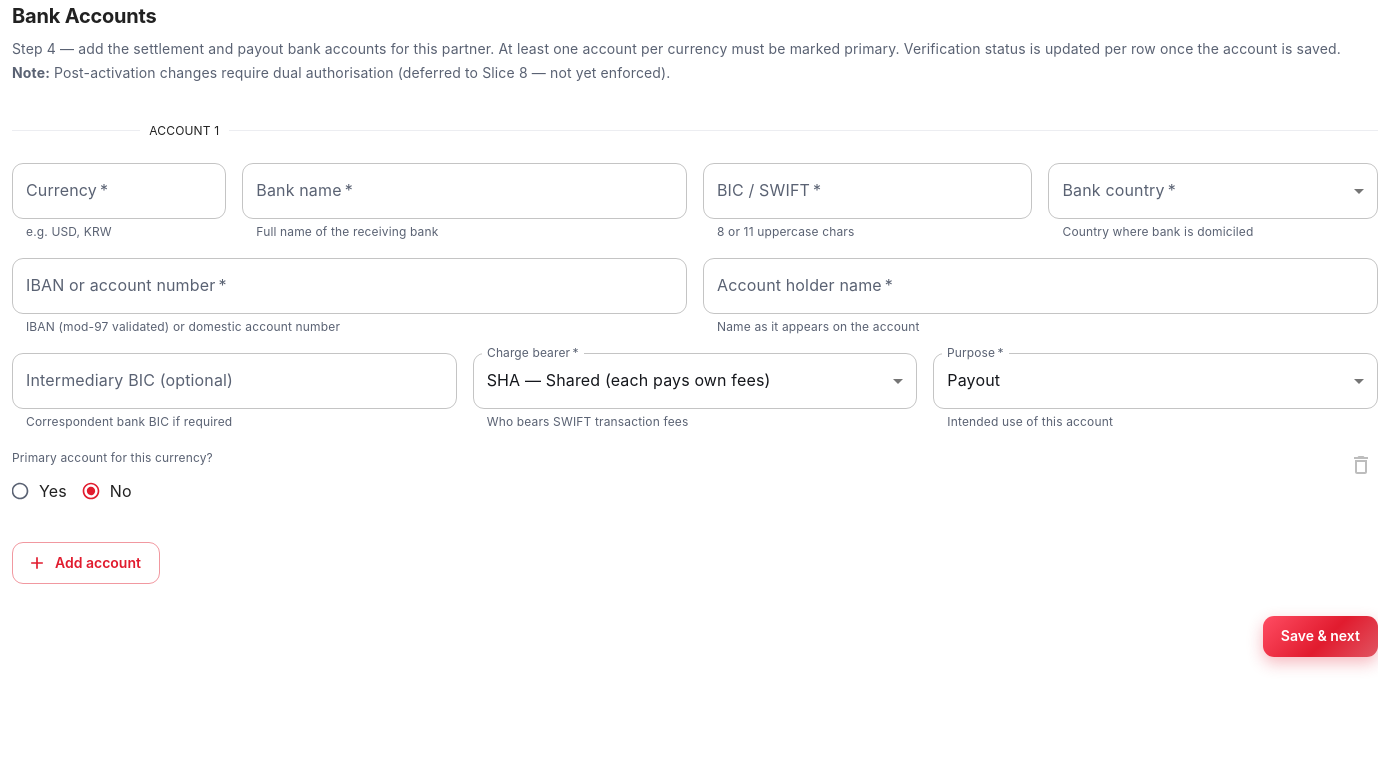
Test: BankAccountsSection › flags BIC validation error on submit with short BIC
Note: Fill minimum required fields but give an invalid (7-char) BIC.
In the field named "bankAccounts[0].currency": (119, 191) [12,163,226,219], type "USD"
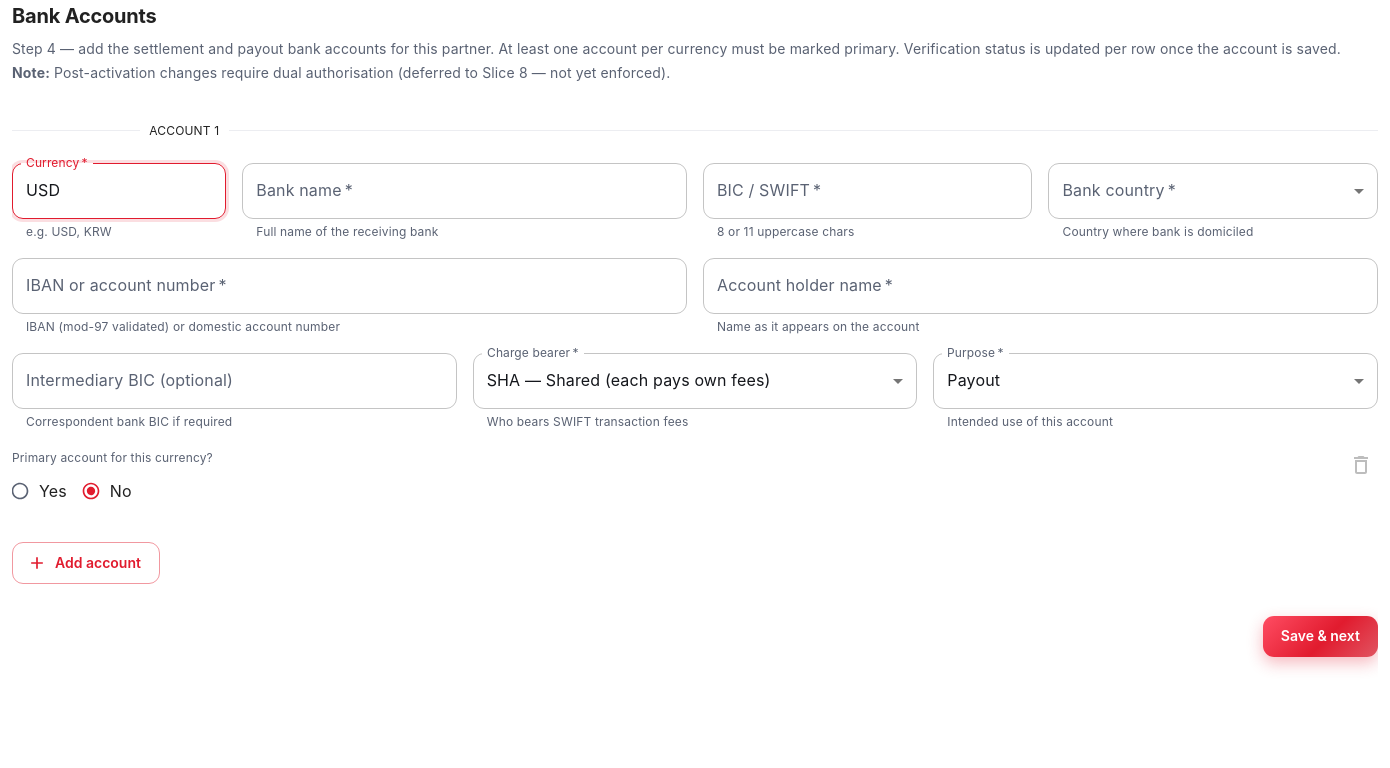
In the field named "bankAccounts[0].bicSwift": (868, 191) [703,163,1032,219], type "FNBKUSD"
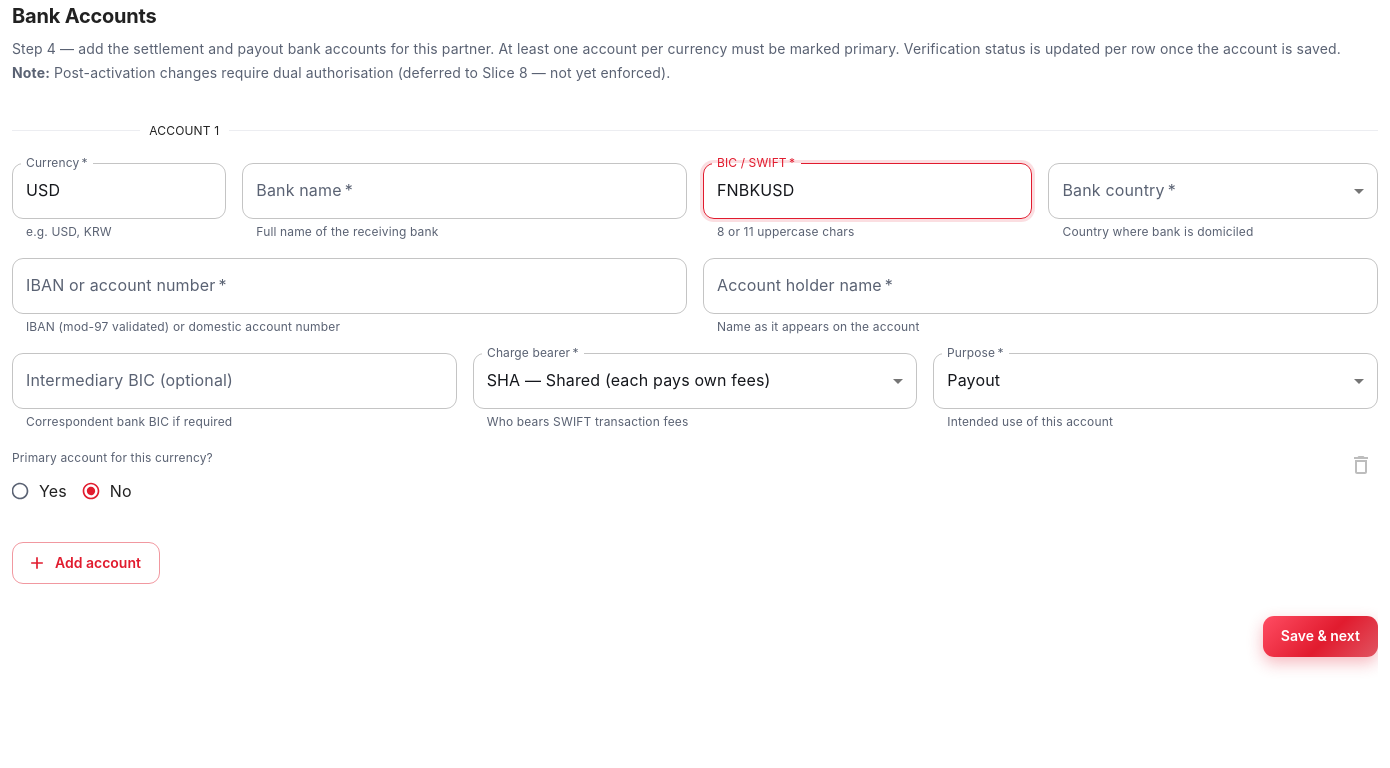
Click the button "Save & next": (1320, 636) [1263,616,1378,657]
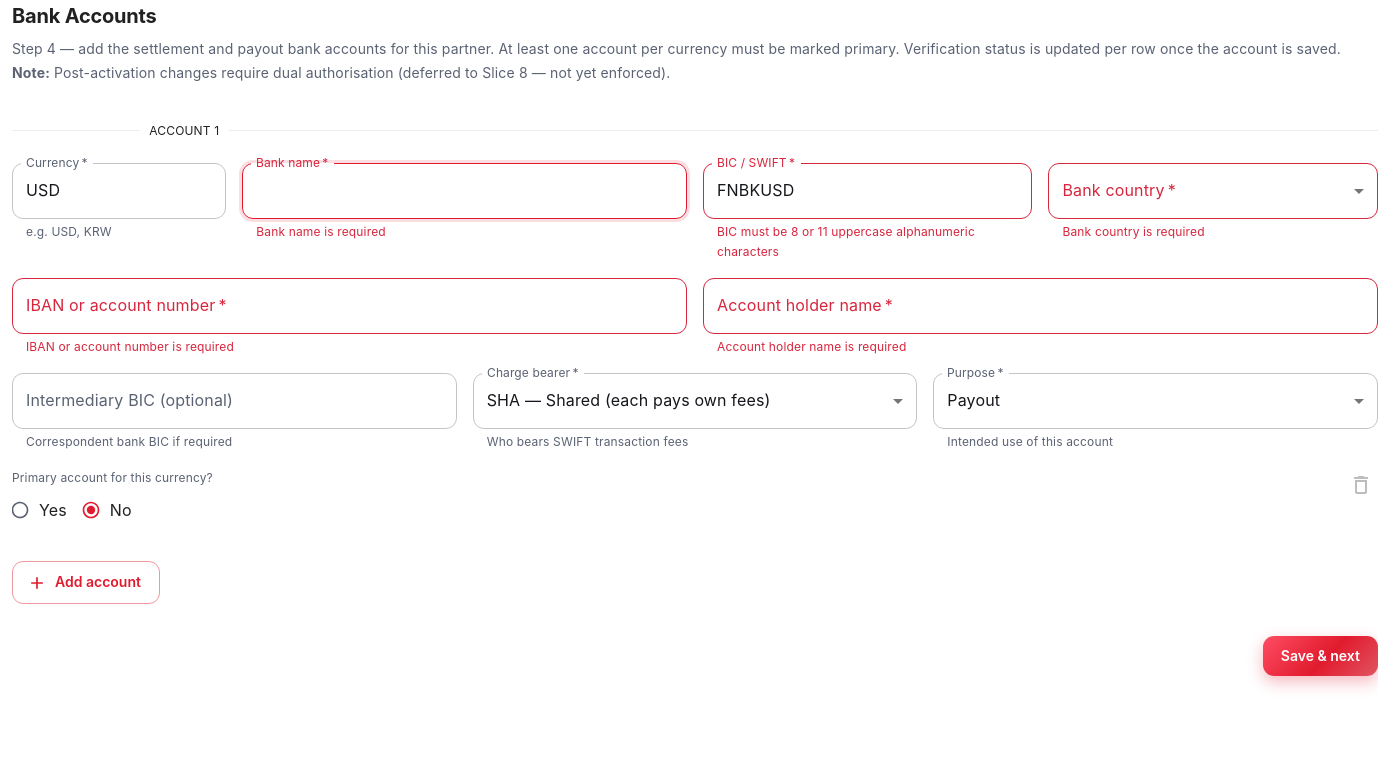
Expected: the text "BIC must be 8 or 11 uppercase alphanumeric characters" is shown, [717,222,1018,262]
